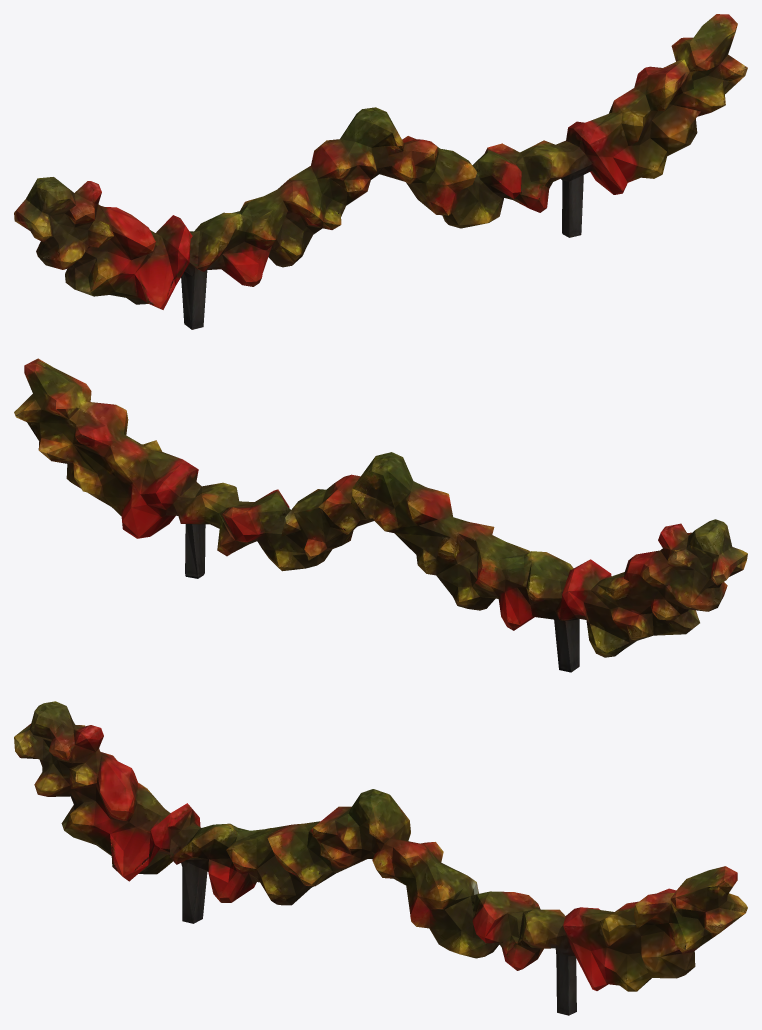
3 views of the same model, one above another, from view 1: azimuth 30°, elevation 25°; view 2: azimuth 150°, elevation 25°; view 3: azimuth 330°, elevation 25° (orthographic).
Parts seen in each view (by area): view 1: geometry_0; view 2: geometry_0; view 3: geometry_0.
Part boxes in pixels (box(x1,y1,x2,y2)): geometry_0: box(14, 14, 747, 329); geometry_0: box(14, 358, 747, 672); geometry_0: box(14, 701, 747, 1015).
Bounding box in the file's own units: 0.999 × 0.2424 × 0.0944.
Materials: 1 (1 with a texture image).
